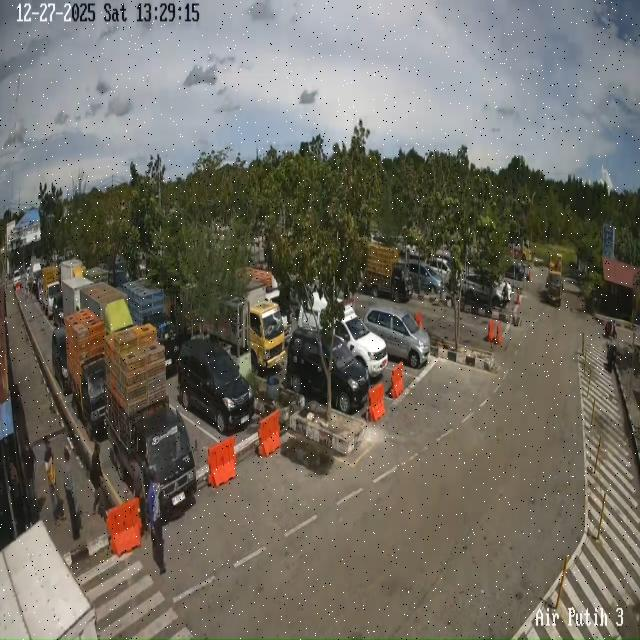Golongan IVA: (298, 294, 388, 378), (178, 339, 254, 434), (286, 328, 369, 414), (364, 306, 430, 368), (463, 274, 512, 307), (52, 327, 72, 395), (407, 259, 443, 294)
Golongan IVB: (102, 386, 200, 522), (67, 344, 113, 451), (362, 243, 413, 302)
Golongan VB: (546, 254, 563, 306)
